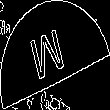M_S: (34, 23, 76, 87)
